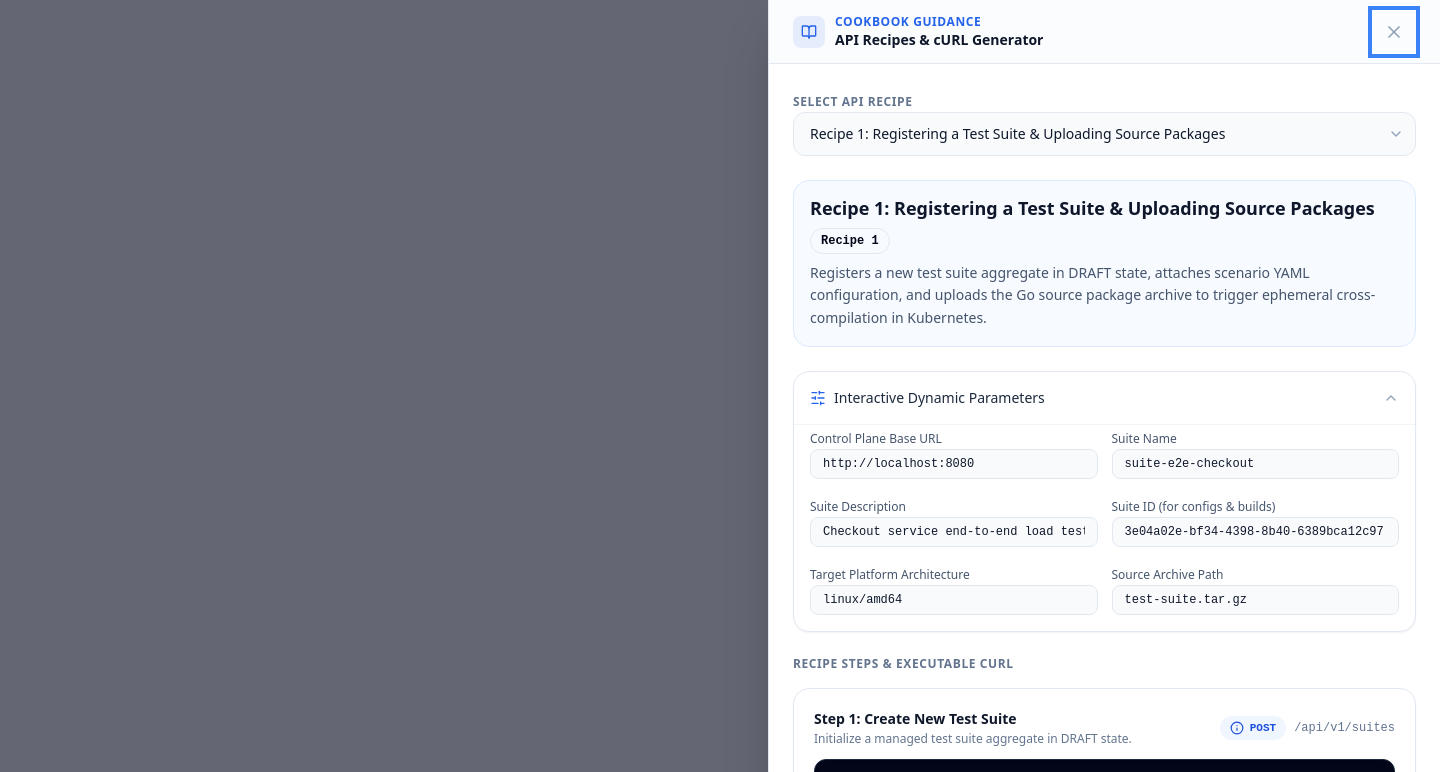
Test: RecipeDrawer Component › renders all 7 recipes in the selector and allows switching recipes
The image size is (1440, 772).
Note: Switch to Recipe 4 (Runs)
Select "Recipe 4: Triggering Ad-Hoc Test Runs" in the dropdown labelled "Select API Recipe" at [1104, 134], box [793,112,1416,156]
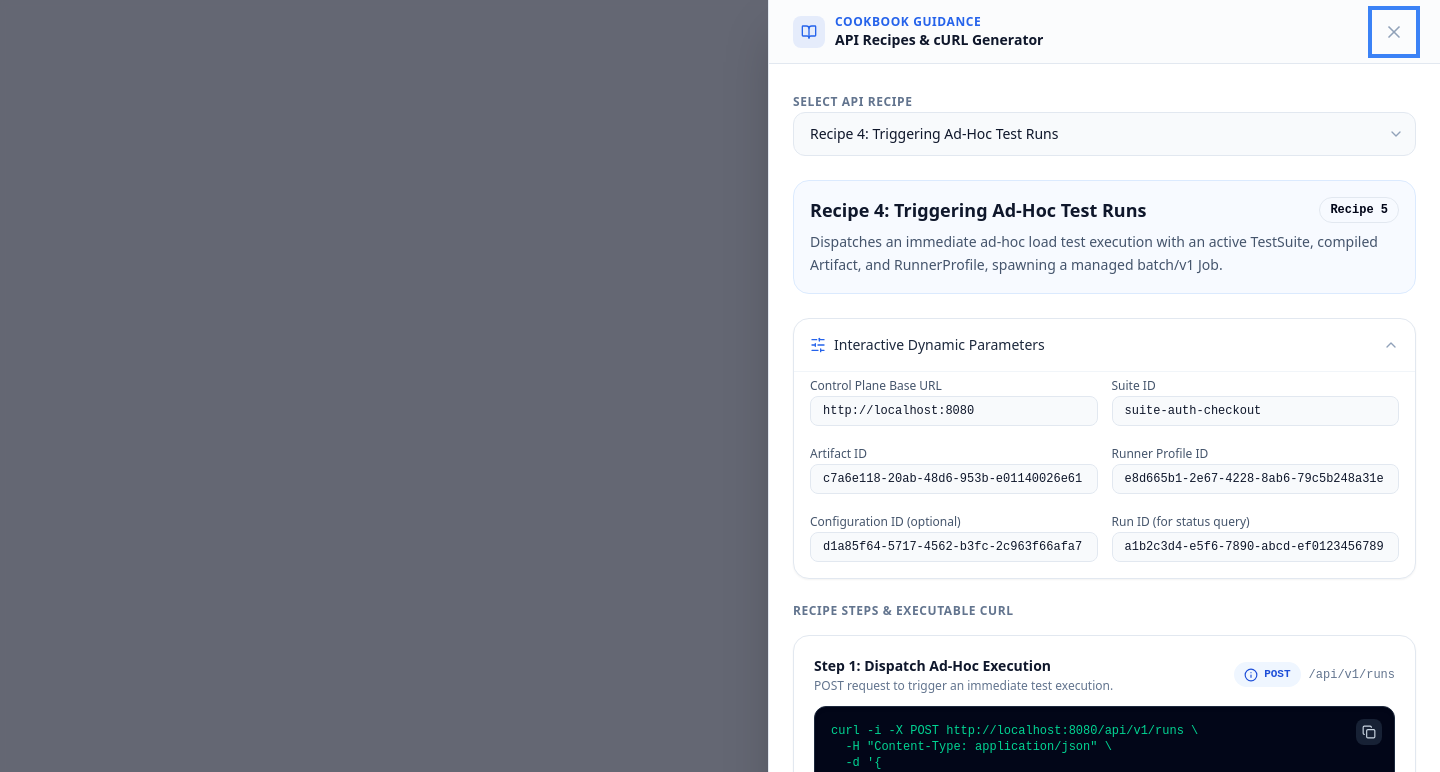
expect the heading "Recipe 4: Triggering Ad-Hoc Test Runs" is shown: met, box [810,199,1146,221]
